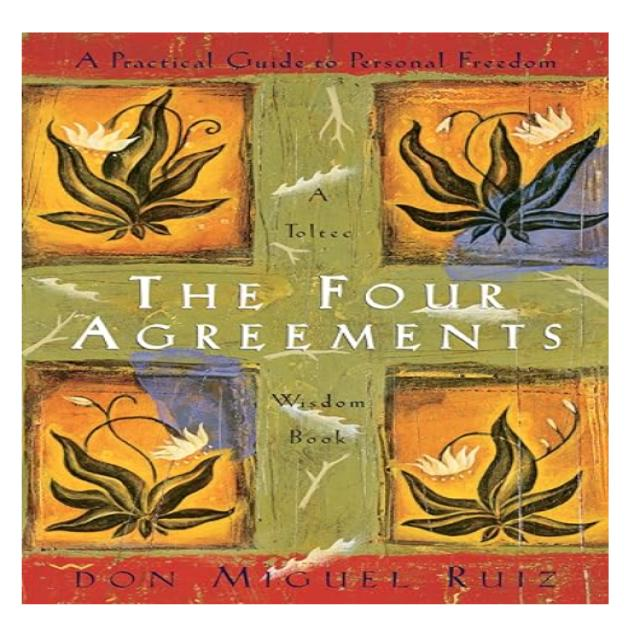titles-or-authors: (58, 261, 579, 367), (58, 562, 570, 594)
